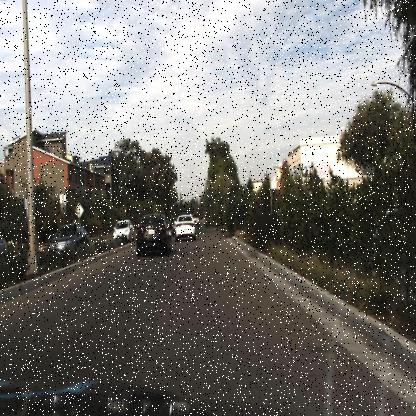car: (130, 204, 172, 263), (42, 216, 93, 264), (171, 205, 202, 248), (109, 212, 136, 245), (111, 216, 134, 245), (164, 217, 176, 241)
